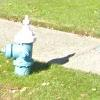a fire hydrant: (5, 21, 36, 76)
